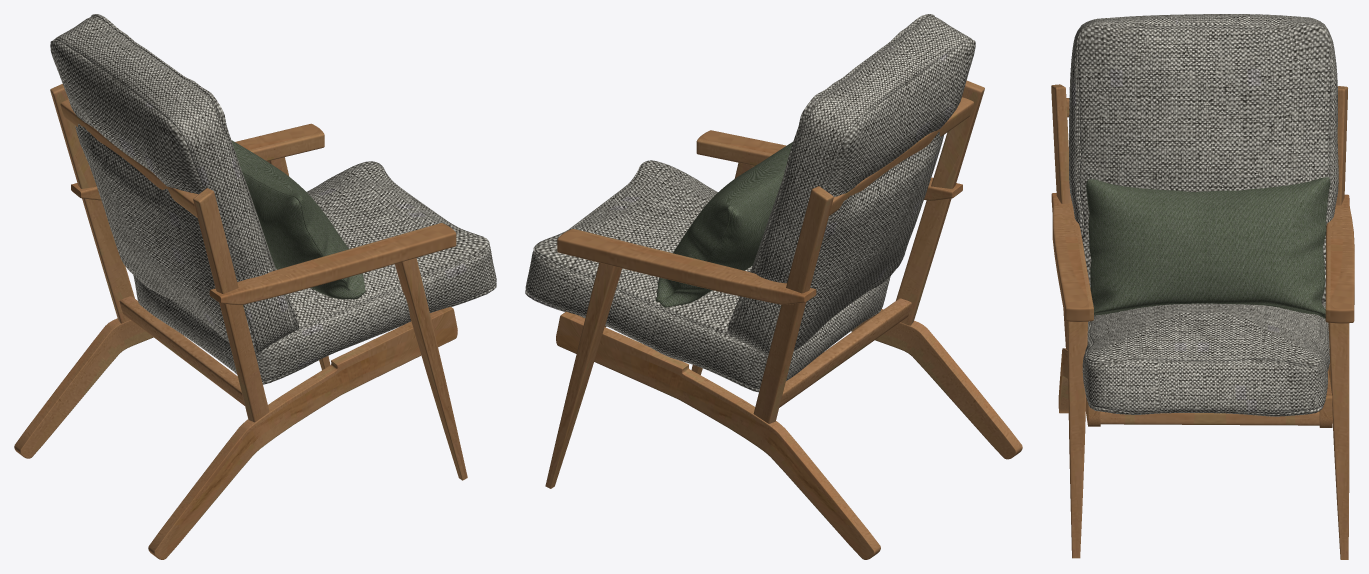
The model's file is classic-armchair-001.glb.
3 renders of one model, left to right at view 1: azimuth 30°, elevation 25°; view 2: azimuth 150°, elevation 25°; view 3: azimuth 270°, elevation 25°, orthographic. The views are drawn at different scales.
Visible parts, largest first — view 1: SofaWood, Soffa_Up_Pad, Soffa_Up_Pad.001, Pillow; view 2: SofaWood, Soffa_Up_Pad, Soffa_Up_Pad.001, Pillow; view 3: Soffa_Up_Pad, Pillow, Soffa_Up_Pad.001, SofaWood.
Part boxes in pixels (x1,y1,x2,y2): SofaWood: (14,84,467,559); Soffa_Up_Pad: (50,14,298,354); Soffa_Up_Pad.001: (133,161,496,384); Pillow: (231,140,365,299); SofaWood: (545,80,1022,559); Soffa_Up_Pad: (727,14,975,356); Soffa_Up_Pad.001: (525,160,890,392); Pillow: (655,142,792,307); Soffa_Up_Pad: (1069,14,1338,303); Pillow: (1086,177,1330,318); Soffa_Up_Pad.001: (1082,302,1329,416); SofaWood: (1051,84,1354,559).
Bounding box in the file's own units: 0.7666 × 0.8591 × 0.5621.
Materials: 4 (4 with a texture image).
